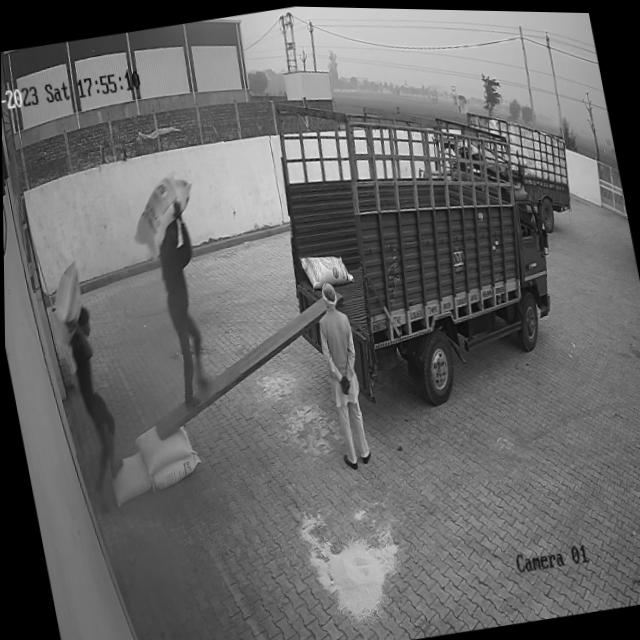sack: (123, 171, 201, 261), (45, 261, 91, 353), (131, 419, 193, 474), (104, 450, 152, 507), (298, 246, 351, 290), (146, 450, 201, 489)
